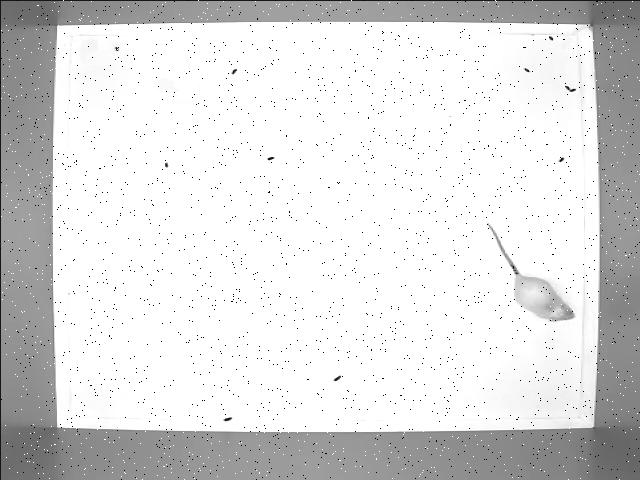Tikus: (484, 218, 576, 325)
